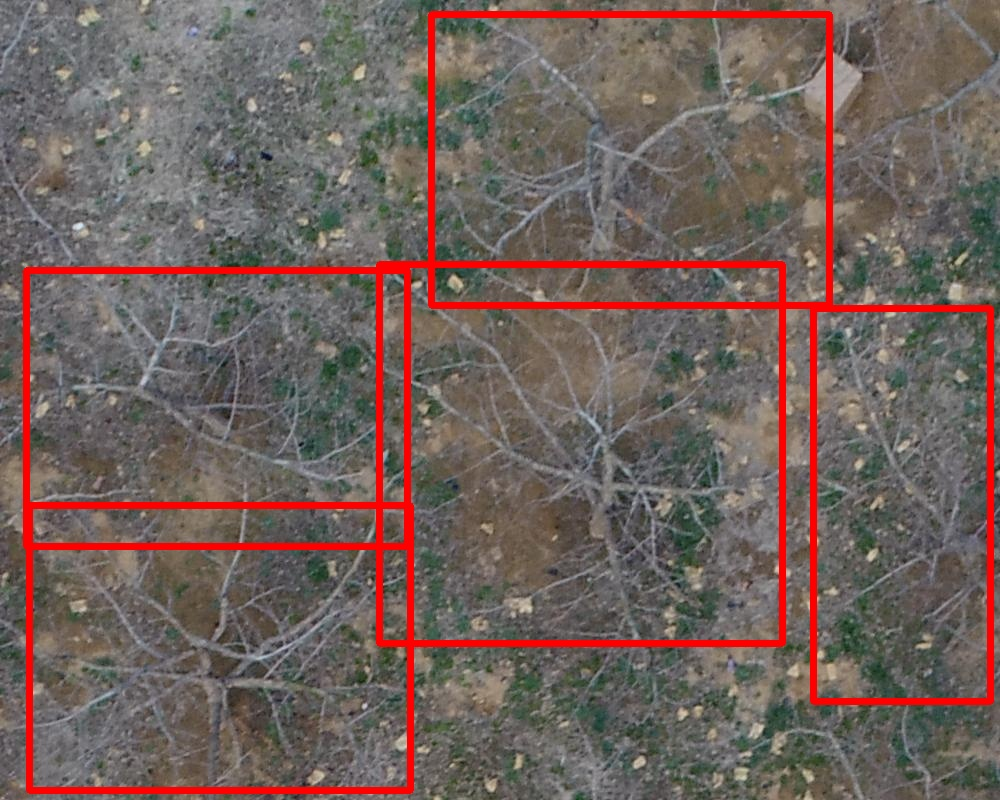apple: (379, 264, 782, 643), (431, 14, 829, 305), (29, 505, 410, 790), (26, 270, 407, 546), (813, 308, 990, 701)
